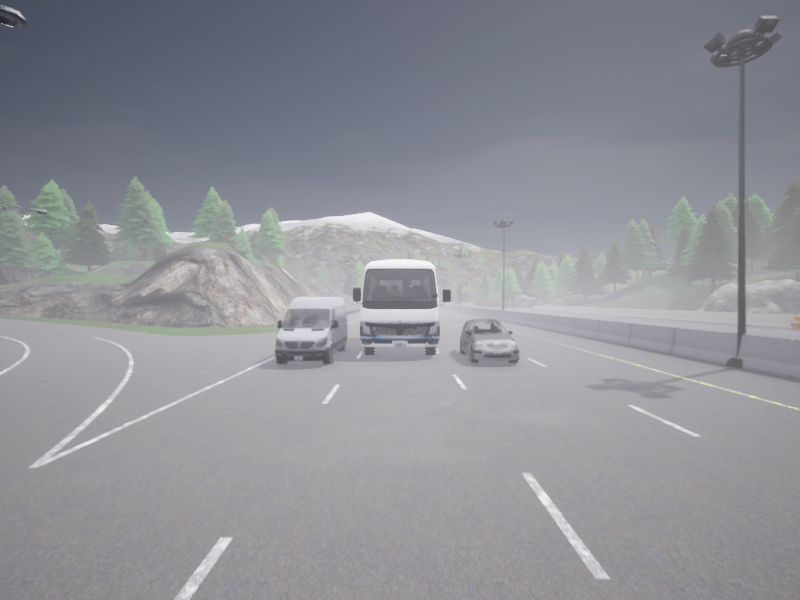vehicle: (353, 259, 450, 355), (275, 297, 347, 364), (459, 319, 519, 364), (455, 302, 458, 304), (473, 302, 477, 303)
